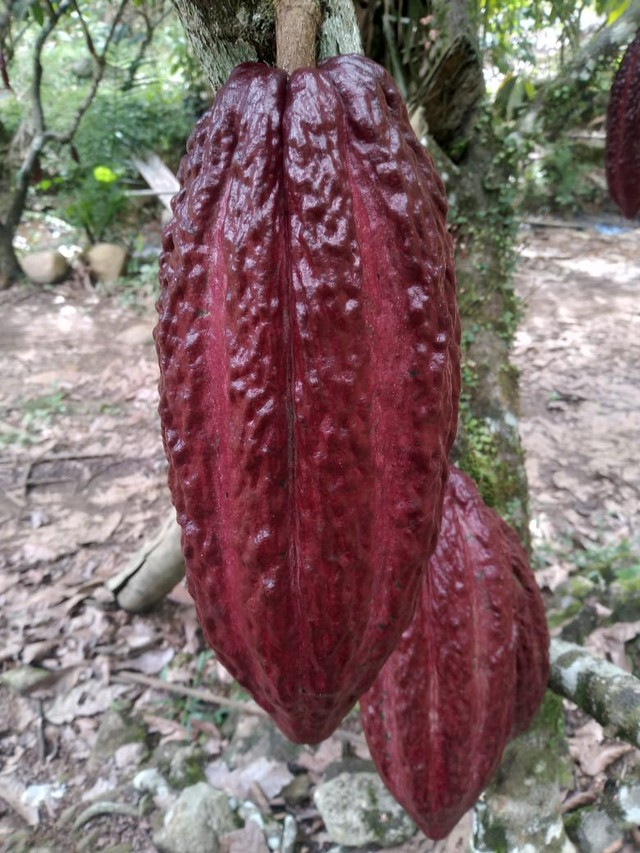Health: (147, 50, 472, 753)
